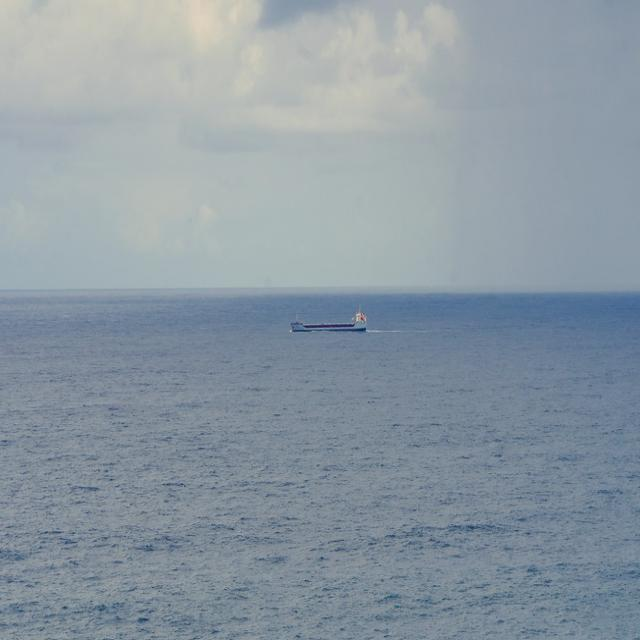cargoship: (289, 305, 370, 335)
